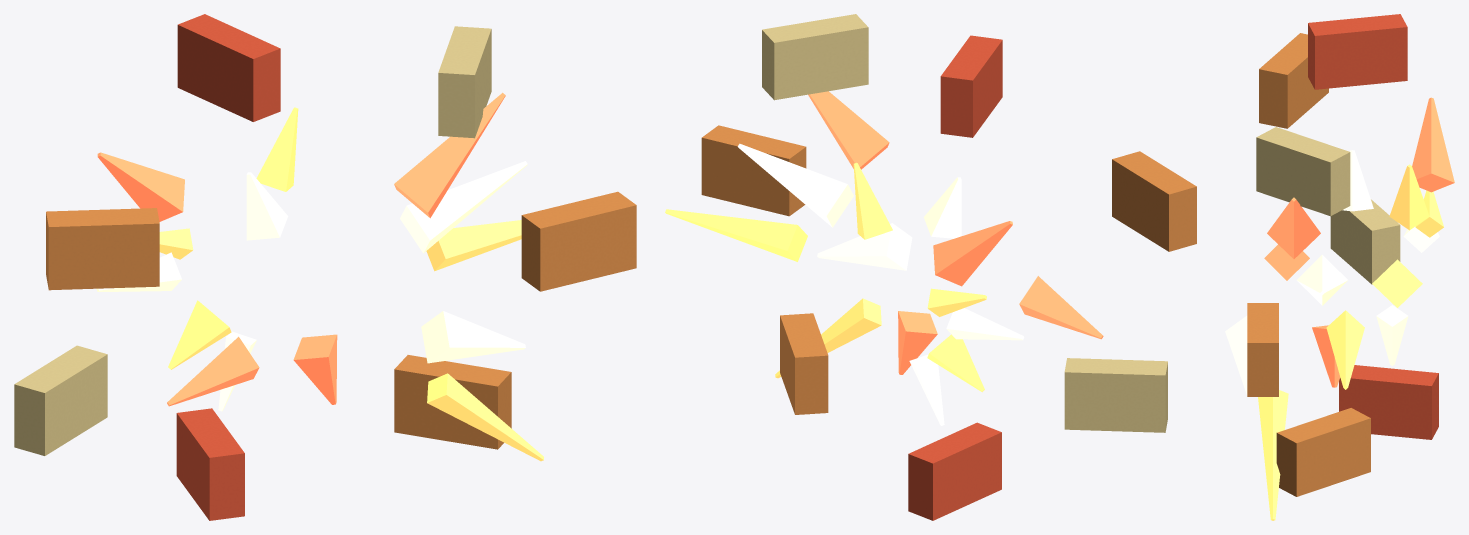
The model's file is ornamentpop.glb.
3 renders of one model, left to right at view 1: azimuth 30°, elevation 25°; view 2: azimuth 150°, elevation 25°; view 3: azimuth 270°, elevation 25°, orthographic. The views are drawn at different scales.
Visible parts, largest first — view 1: Ornament Pop dimensional effect.001; view 2: Ornament Pop dimensional effect.001; view 3: Ornament Pop dimensional effect.001.
Part boxes in pixels (x1=…): Ornament Pop dimensional effect.001: x1=14, y1=14, x2=636, y2=520; Ornament Pop dimensional effect.001: x1=665, y1=14, x2=1196, y2=520; Ornament Pop dimensional effect.001: x1=1225, y1=14, x2=1454, y2=520.
Bounding box in the file's own units: 1.39 × 1.12 × 0.58.
4 materials, 1 textured.
